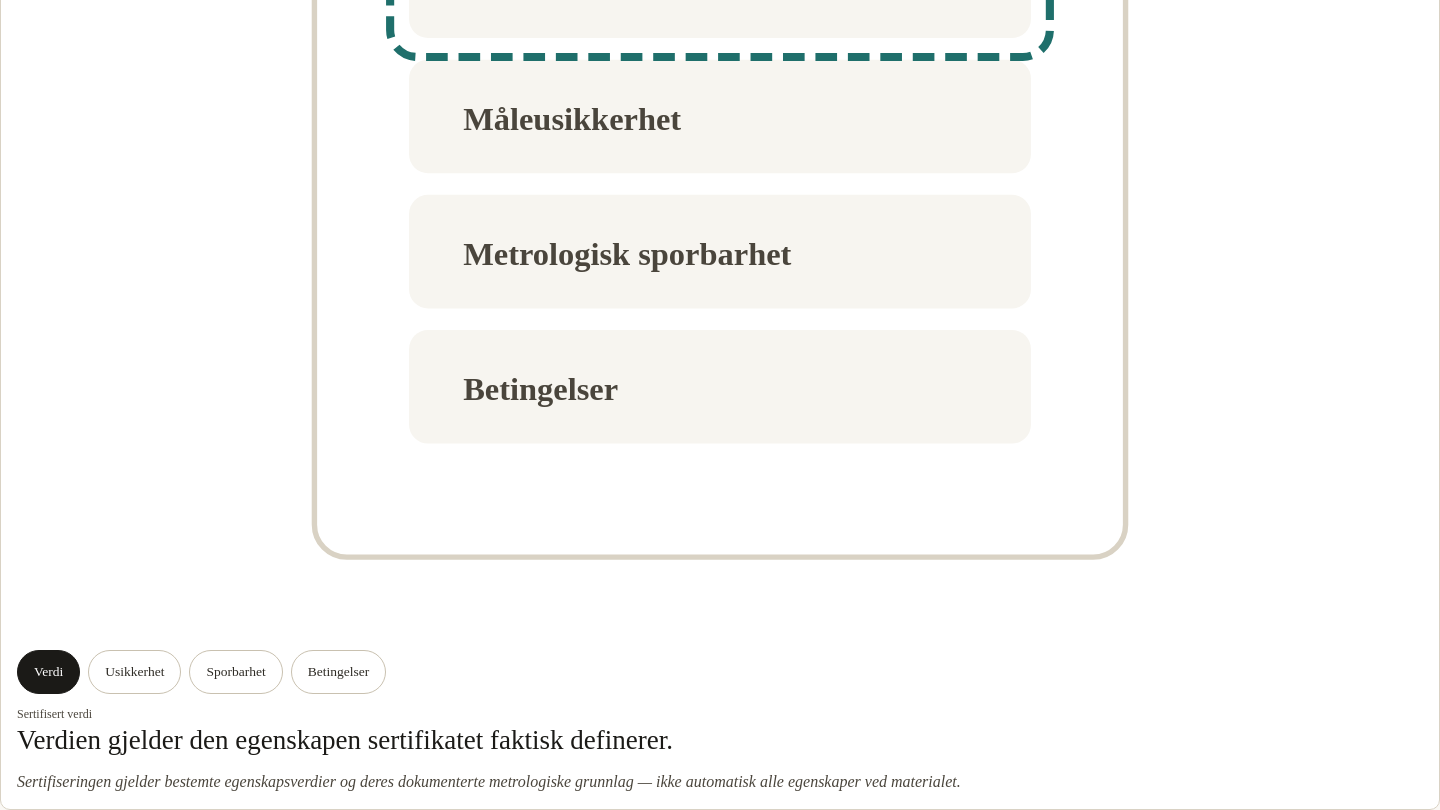
Test: grafiske kvalitetssikringsdemonstrasjoner › CRM: sporbarhetsfeltet forklarer referansen til sertifisert verdi
(page scrolled)
Click the button "Sporbarhet". click: (236, 672)
box: [190, 650, 283, 694]
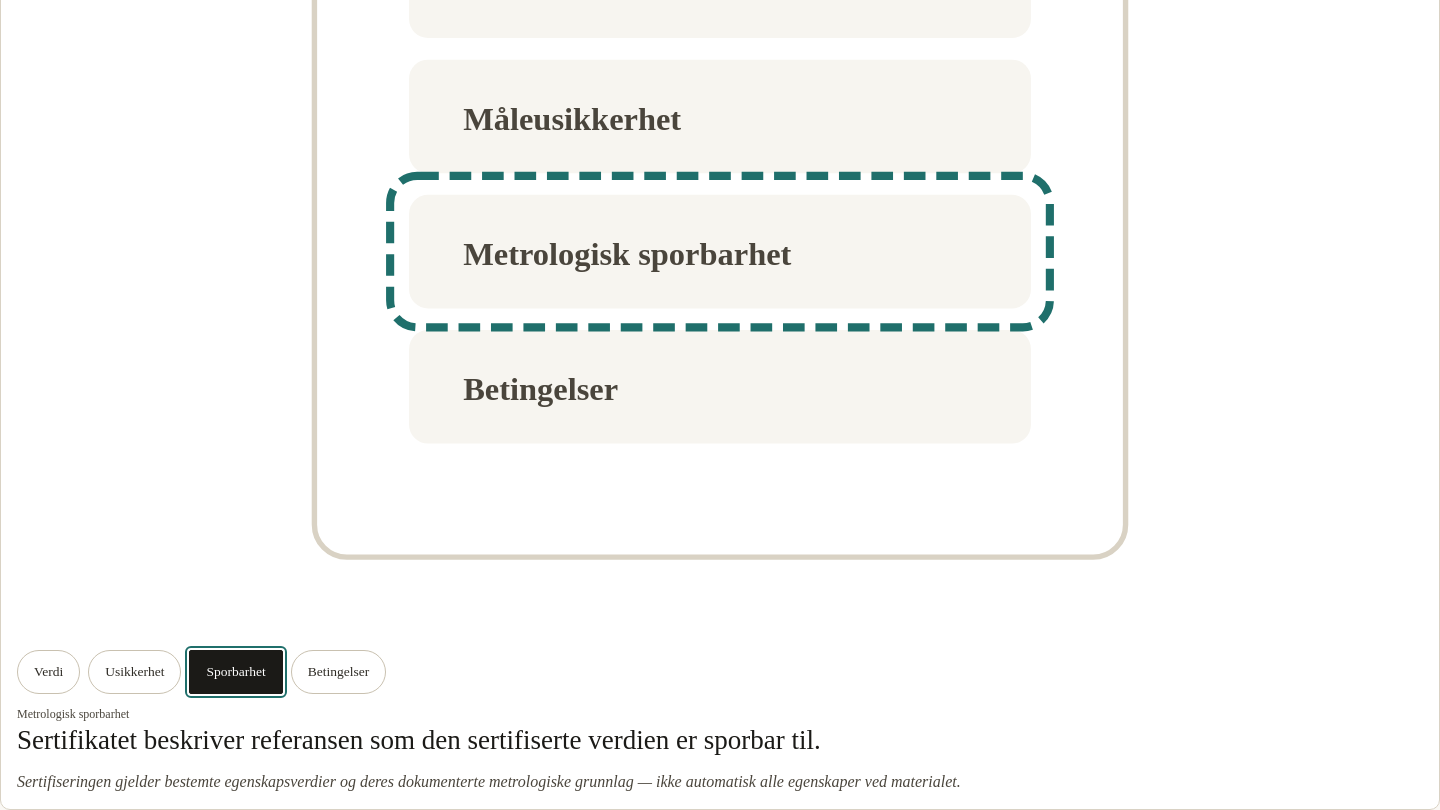
Check: the text "referansen som den sertifiserte verdien er sporbar til" is shown, box [17, 725, 821, 755]
